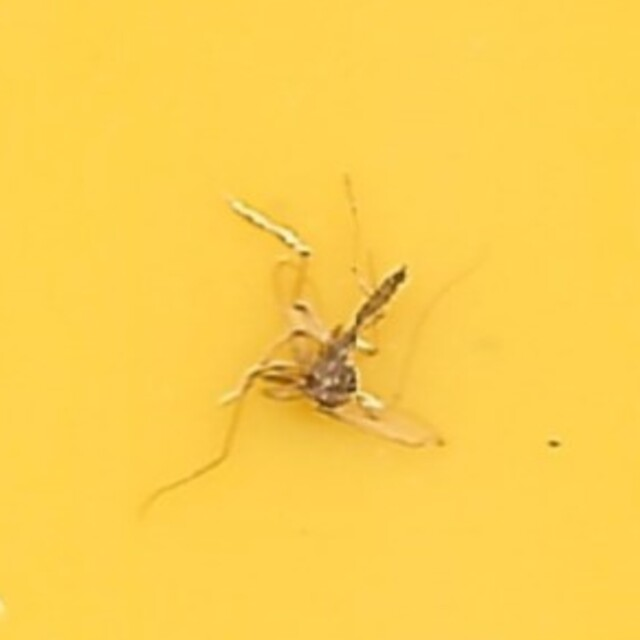Nematocera: (220, 206, 420, 434)
